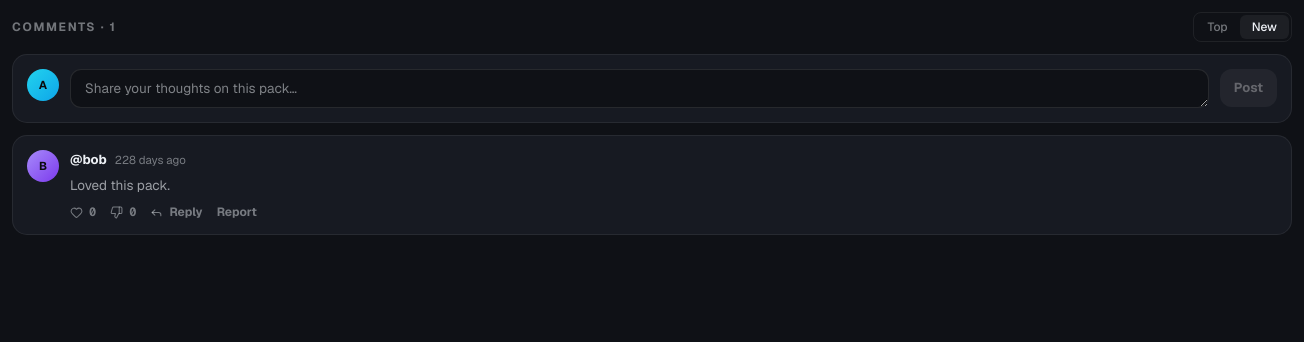
Test: CommentSection › threading (replies) › posts a reply with the parent id and appends it under the root
This screenshot has width=1304, height=342.
Step 1. Click the button "Reply" → (176, 212), box left=150, top=204, right=203, bottom=220
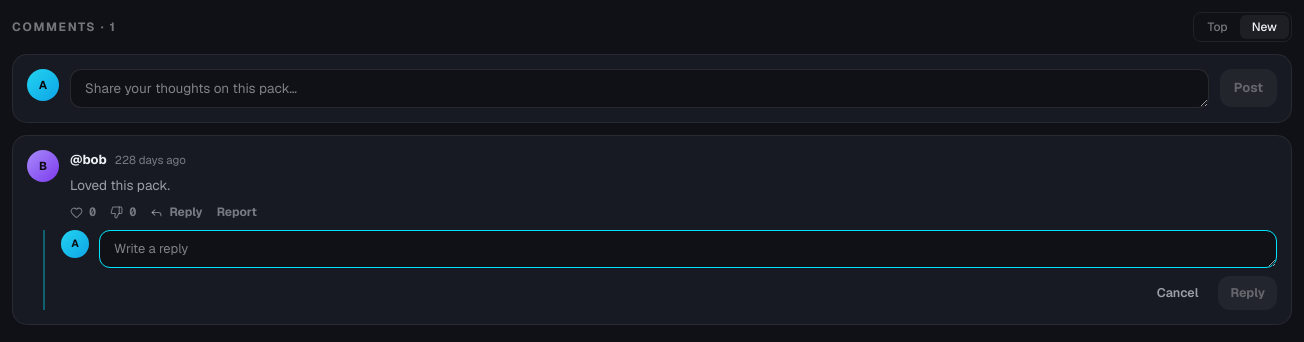
Step 2. Type "My reply." into the text box named "Reply to comment" → (688, 249), box left=99, top=230, right=1277, bottom=268
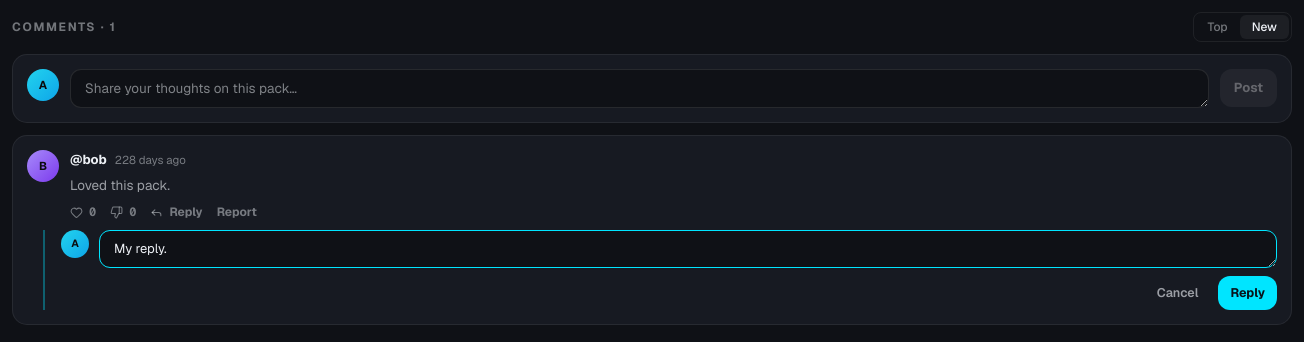
Step 3. Click the 2nd button "Reply" → (1248, 294), box left=1218, top=276, right=1277, bottom=310
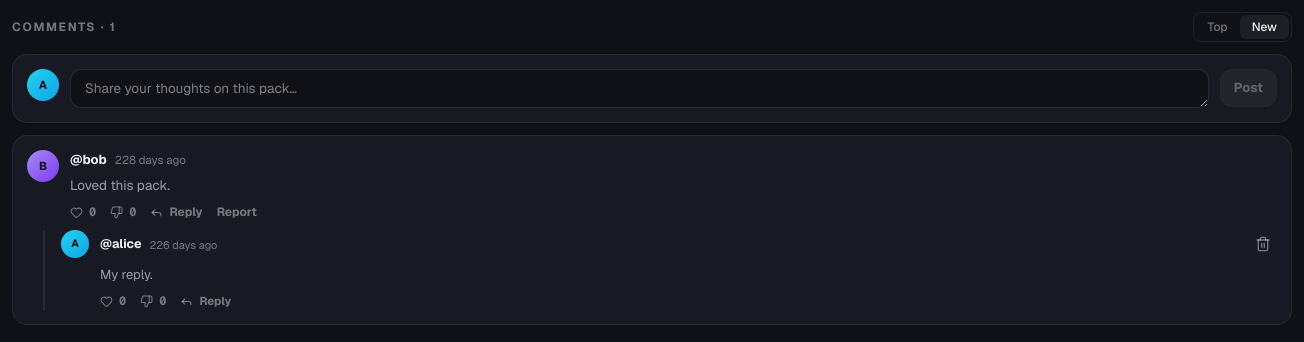
Check: the text "My reply." is shown, box left=100, top=266, right=153, bottom=283
